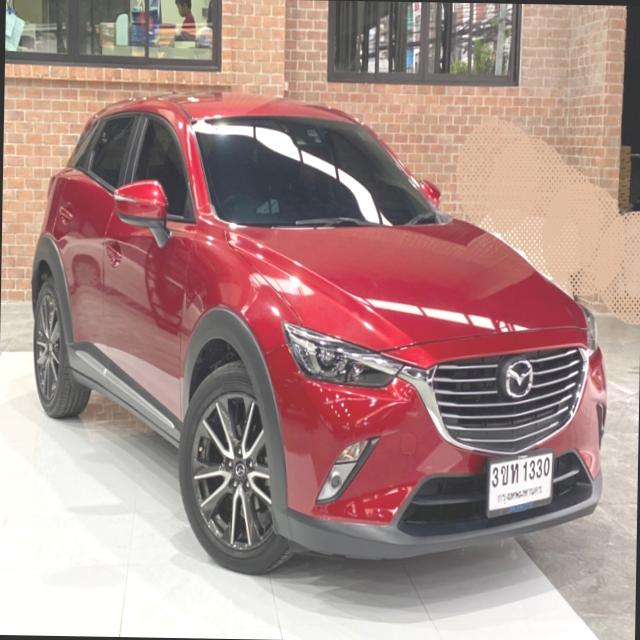license_plate: (482, 448, 555, 520)
